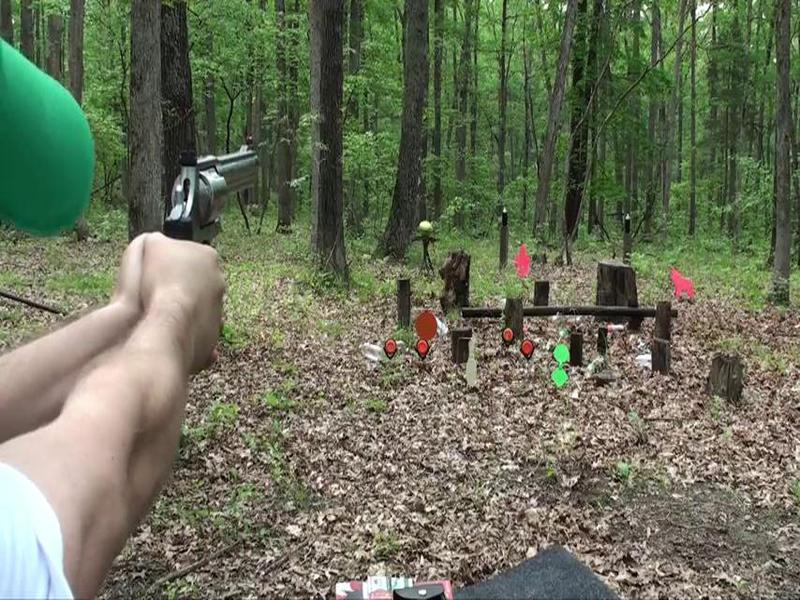Revolver: (146, 130, 274, 292)
